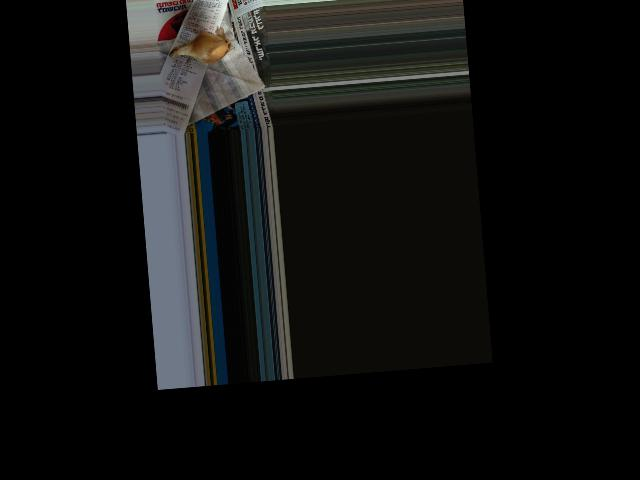onion: (186, 30, 226, 65)
